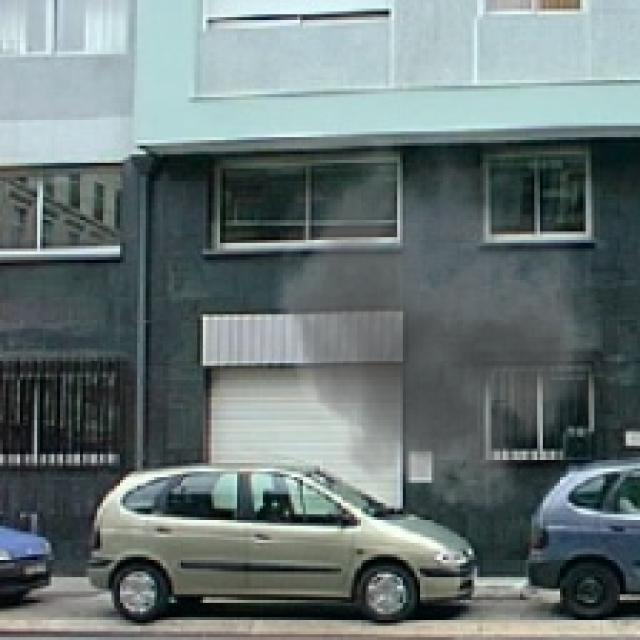Smoke: (260, 120, 603, 529)
